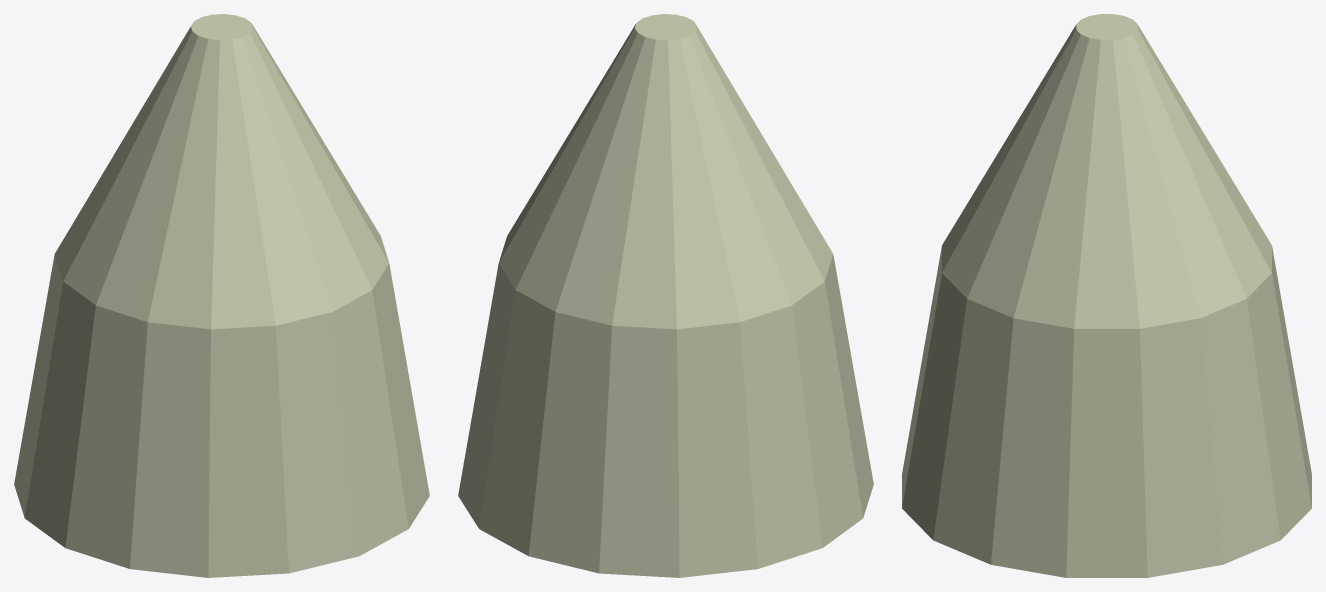
Rendered from RLV_1_Nose_1_Collider.obj.
3 views of the same model, side by side, from view 1: azimuth 30°, elevation 25°; view 2: azimuth 150°, elevation 25°; view 3: azimuth 270°, elevation 25° (orthographic).
Parts seen in each view (by area): view 1: RLV_1_Nose_1_Collider; view 2: RLV_1_Nose_1_Collider; view 3: RLV_1_Nose_1_Collider.
Part boxes in pixels (bbox=[...]): RLV_1_Nose_1_Collider: bbox=[14, 14, 429, 577]; RLV_1_Nose_1_Collider: bbox=[458, 14, 873, 577]; RLV_1_Nose_1_Collider: bbox=[902, 14, 1311, 577].
Size of the model in its own units: 5 by 6.25 by 5.
